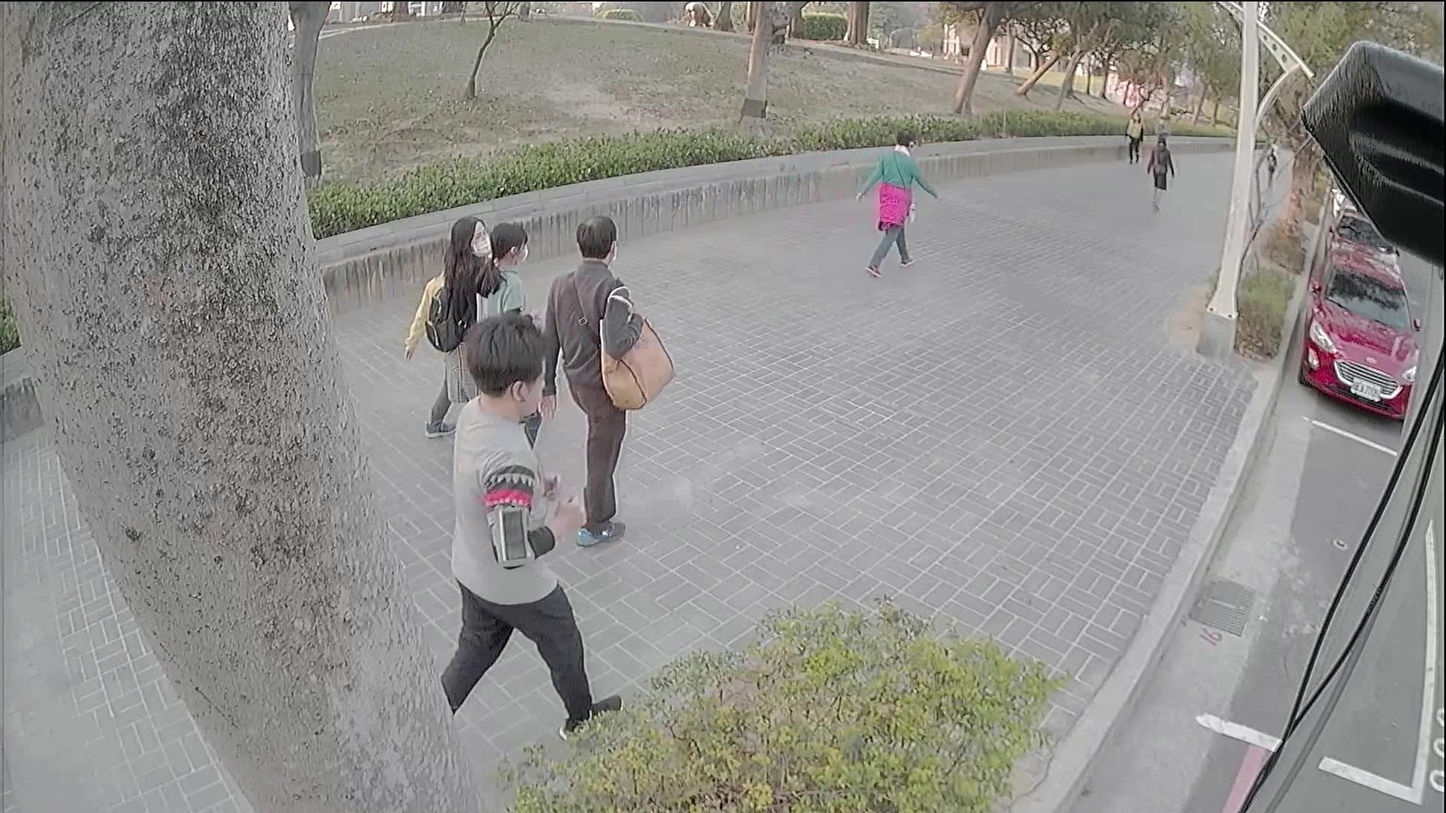person: (441, 315, 619, 735), (538, 215, 673, 541), (855, 129, 931, 276), (438, 215, 487, 393), (406, 266, 454, 429), (479, 223, 526, 310), (1142, 131, 1170, 214), (1121, 110, 1139, 162), (1153, 114, 1169, 136)
